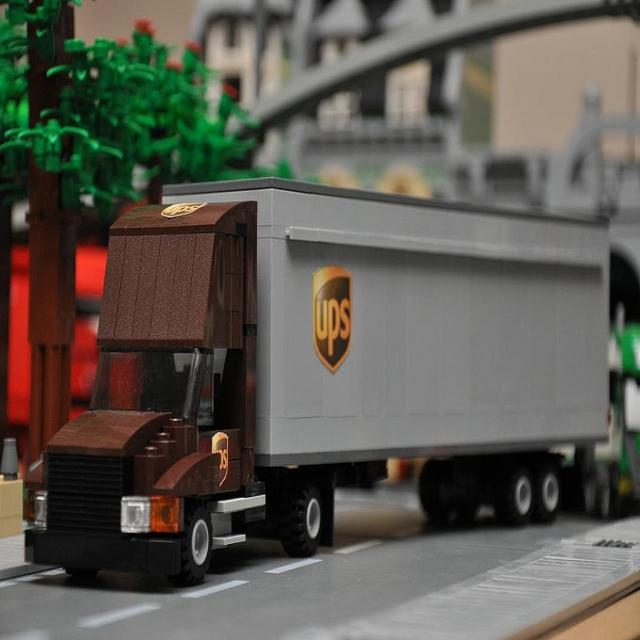ups: (313, 267, 354, 379), (213, 433, 230, 488), (162, 204, 207, 220)
